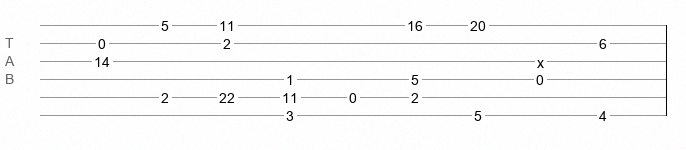0: (98, 36, 106, 46), (349, 90, 357, 100), (536, 72, 544, 82)
1: (286, 72, 294, 82)
11: (219, 18, 235, 28), (282, 90, 298, 100)
14: (94, 54, 110, 64)
16: (407, 18, 423, 28)
2: (161, 90, 169, 100), (223, 36, 231, 46), (411, 90, 419, 100)
20: (470, 18, 486, 28)
22: (219, 90, 235, 100)
3: (286, 108, 294, 118)
4: (599, 108, 607, 118)
5: (161, 18, 169, 28), (411, 72, 419, 82), (474, 108, 482, 118)
6: (599, 36, 607, 46)
x: (537, 55, 544, 63)
